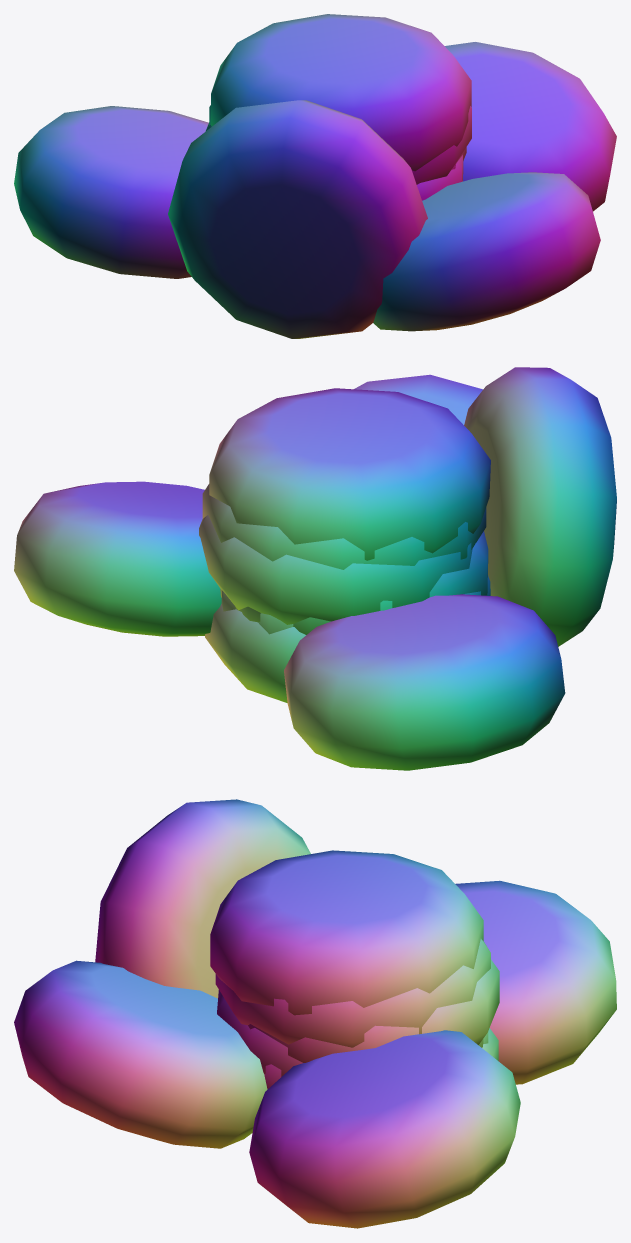
The model's file is SM_Pickup_Gold_M.fbx.
3 renders of one model, top to bottom at view 1: azimuth 30°, elevation 25°; view 2: azimuth 150°, elevation 25°; view 3: azimuth 270°, elevation 25°, orthographic. The views are drawn at different scales.
Visible parts, largest first — view 1: SM_Pickup_Gold_M; view 2: SM_Pickup_Gold_M; view 3: SM_Pickup_Gold_M.
Part boxes in pixels (x1=…): SM_Pickup_Gold_M: x1=14, y1=14, x2=616, y2=338; SM_Pickup_Gold_M: x1=14, y1=367, x2=616, y2=770; SM_Pickup_Gold_M: x1=14, y1=799, x2=616, y2=1228.
Bounding box in the file's own units: 0.1974 × 0.0877 × 0.1886.
